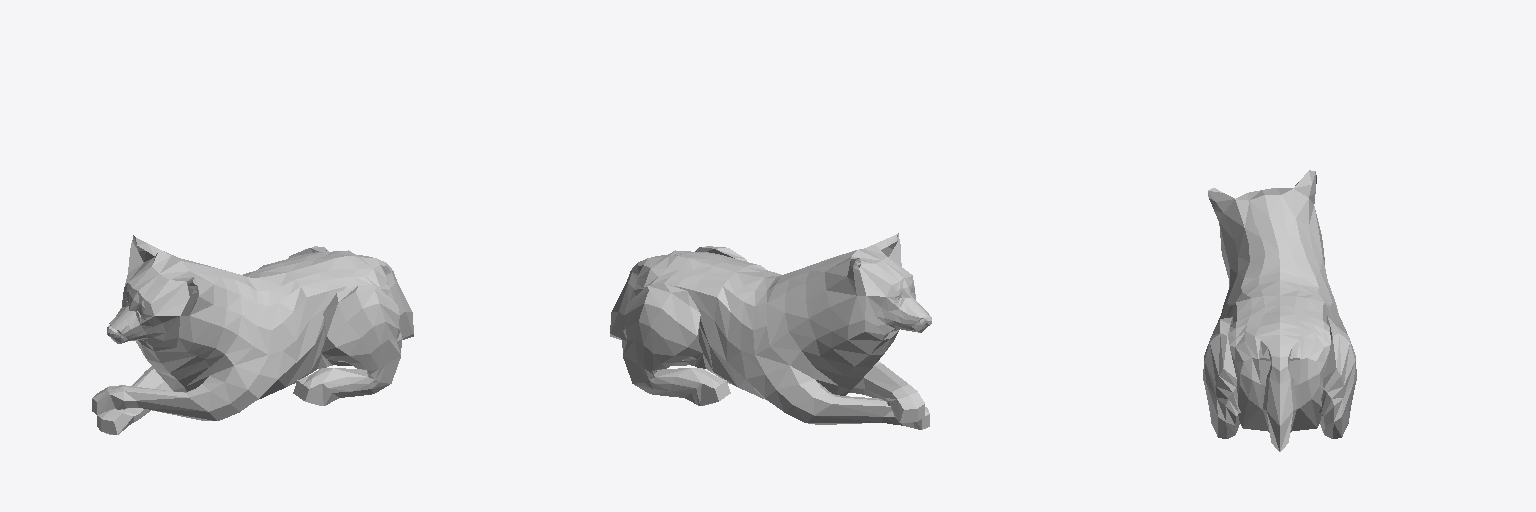
File: deal-with-it-doge.obj
3 views of the same model, side by side, from view 1: azimuth 30°, elevation 25°; view 2: azimuth 150°, elevation 25°; view 3: azimuth 270°, elevation 25° (orthographic).
Parts seen in each view (by area): view 1: DealWithItDoge_polySurface75_polySurface75; view 2: DealWithItDoge_polySurface75_polySurface75; view 3: DealWithItDoge_polySurface75_polySurface75.
Boxes of the visible parts, x1,y1,x2,y2 form: DealWithItDoge_polySurface75_polySurface75: [92, 235, 413, 434]; DealWithItDoge_polySurface75_polySurface75: [610, 233, 931, 429]; DealWithItDoge_polySurface75_polySurface75: [1203, 170, 1356, 451].
Bounding box in the file's own units: 0.0631 × 0.053 × 0.0265.